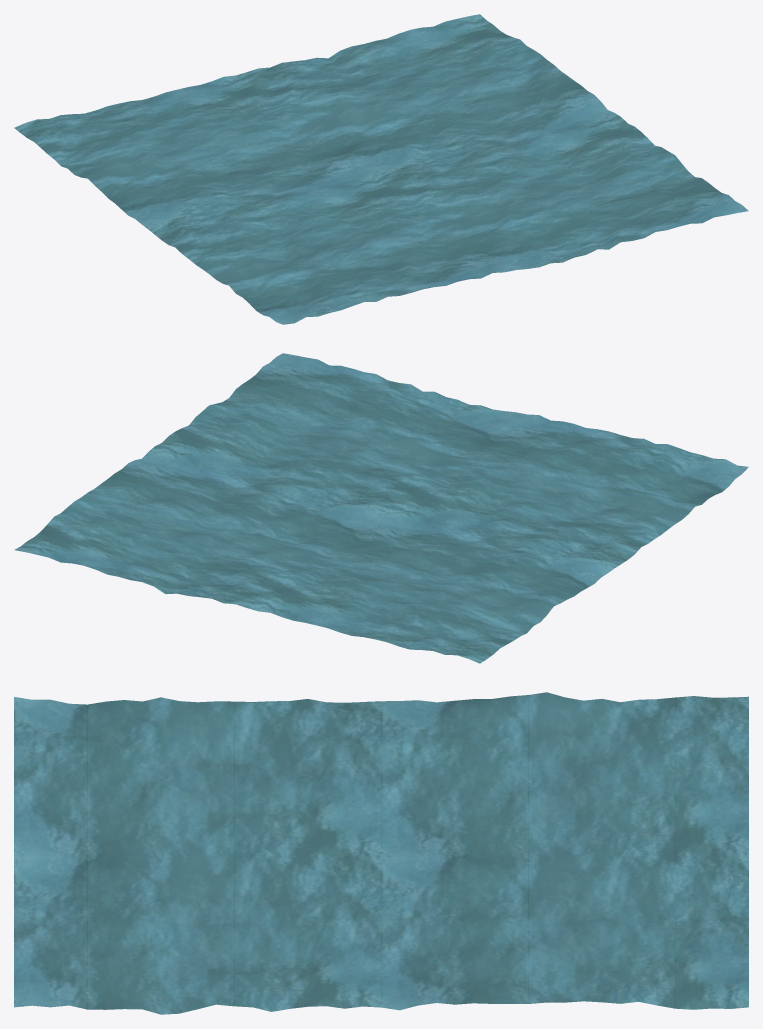
File: water_animation_optimised.glb
3 views of the same model, one above another, from view 1: azimuth 30°, elevation 25°; view 2: azimuth 150°, elevation 25°; view 3: azimuth 270°, elevation 25° (orthographic). The views are drawn at different scales.
Visible parts, largest first — view 1: Water Export; view 2: Water Export; view 3: Water Export.
Part boxes in pixels (x1,y1,x2,y2): Water Export: [14, 14, 748, 324]; Water Export: [14, 353, 748, 663]; Water Export: [14, 692, 748, 1014].
Bounding box in the file's own units: 100 × 3.16 × 100.
1 material, 1 textured.
